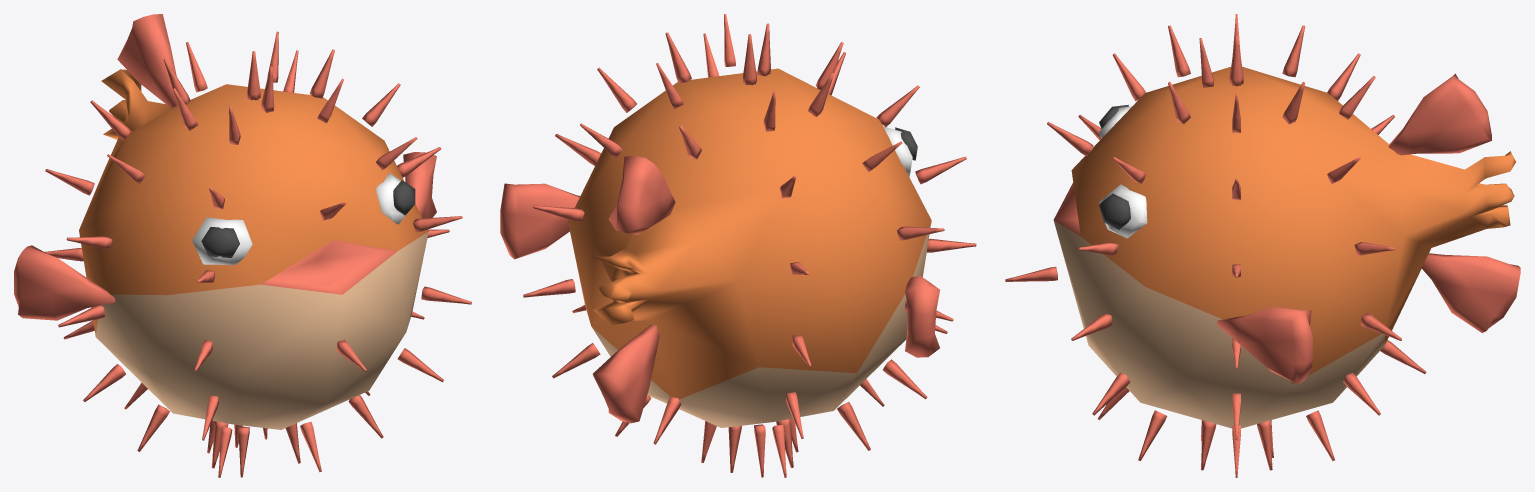
File: pufferfish.fbx
The picture shows the model from 3 angles, left to right: view 1: azimuth 30°, elevation 25°; view 2: azimuth 150°, elevation 25°; view 3: azimuth 270°, elevation 25°; orthographic projection. The views are drawn at different scales.
Visible parts, largest first — view 1: Cloner.4; view 2: Cloner.4; view 3: Cloner.4.
Boxes of the visible parts, box(x1,y1,x2,y2) form: Cloner.4: box(14, 14, 471, 477); Cloner.4: box(500, 14, 976, 477); Cloner.4: box(1005, 14, 1520, 477).
Size of the model in its own units: 38198 by 35582 by 39406.
